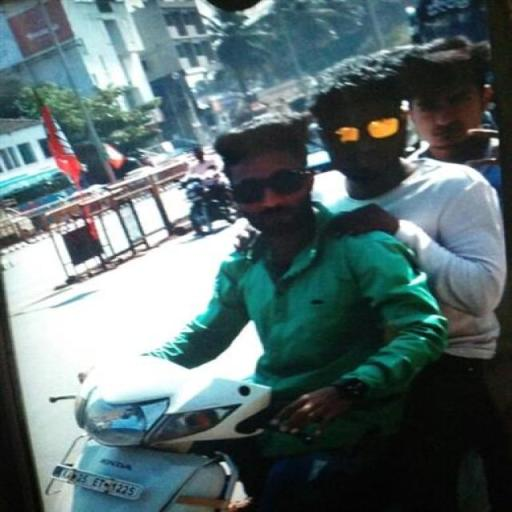tripple riding: (191, 32, 512, 236)
